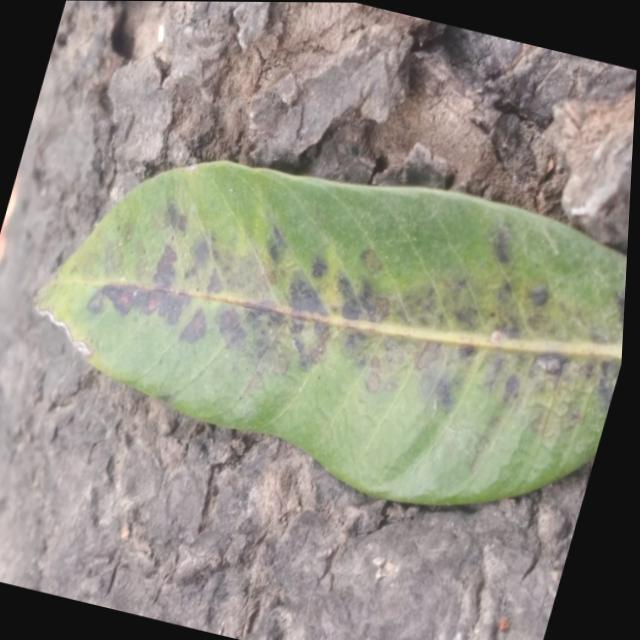Anthracnose: (346, 277, 396, 327), (412, 367, 463, 414), (285, 274, 331, 316), (95, 277, 138, 316), (153, 288, 191, 328), (177, 308, 214, 349), (212, 306, 247, 348), (151, 244, 183, 289), (335, 272, 362, 322), (288, 288, 329, 320), (411, 337, 444, 376), (487, 224, 518, 265), (239, 296, 278, 328), (158, 200, 192, 236), (594, 361, 620, 408), (532, 346, 568, 379), (211, 305, 244, 340), (262, 225, 291, 263), (480, 354, 505, 393), (290, 332, 313, 370), (357, 244, 384, 276), (339, 326, 367, 353), (83, 290, 110, 317), (433, 377, 453, 412), (333, 273, 356, 302), (190, 238, 212, 268), (501, 374, 520, 404), (494, 280, 515, 304), (309, 255, 329, 279), (454, 306, 477, 326), (206, 272, 225, 296), (340, 299, 361, 320), (309, 319, 330, 339), (529, 286, 548, 306), (365, 371, 380, 393), (616, 292, 624, 330), (457, 345, 475, 359), (289, 318, 302, 333)
